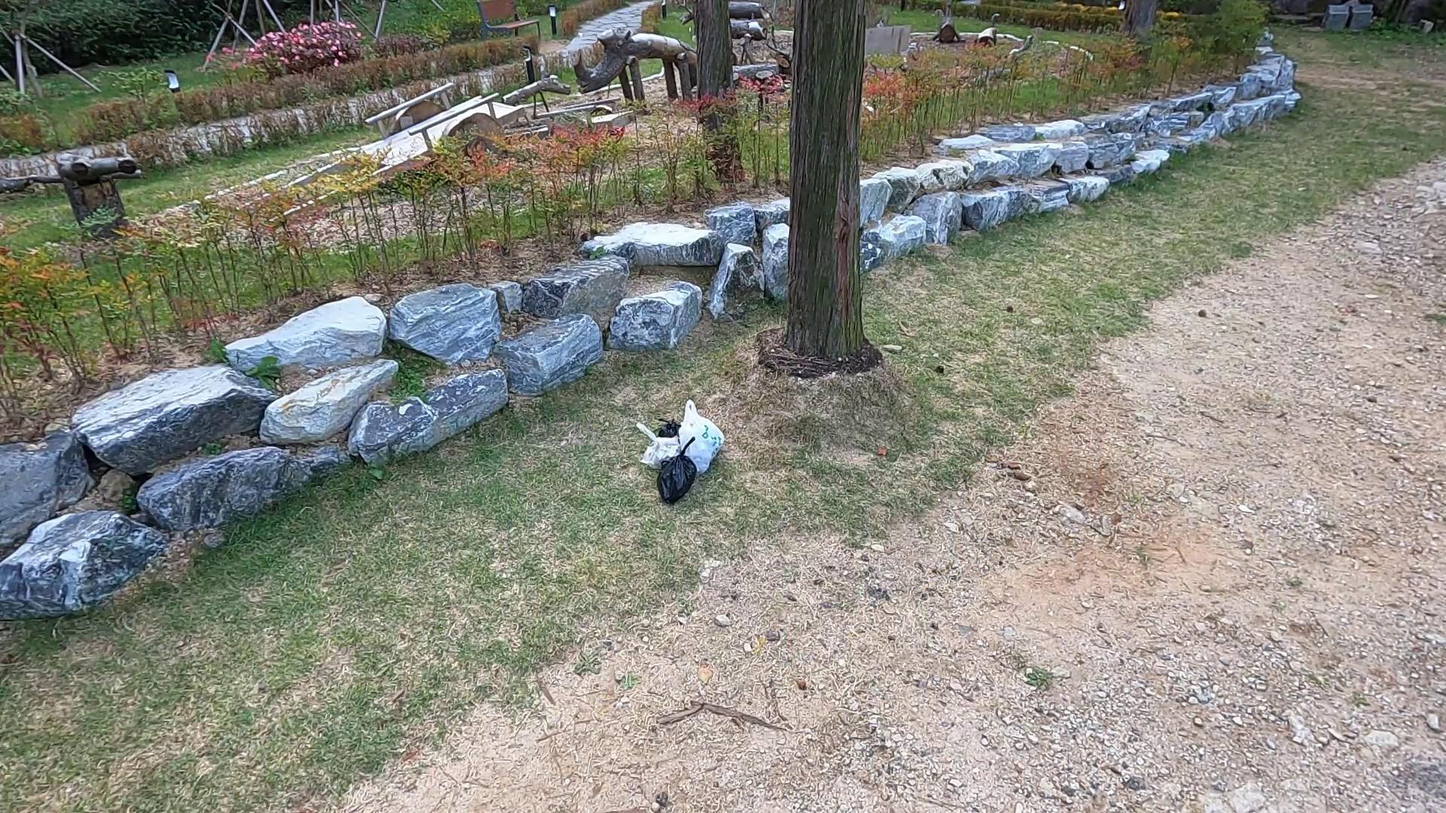trash: (672, 393, 726, 481), (654, 437, 699, 510), (636, 420, 679, 470), (651, 419, 687, 445)
